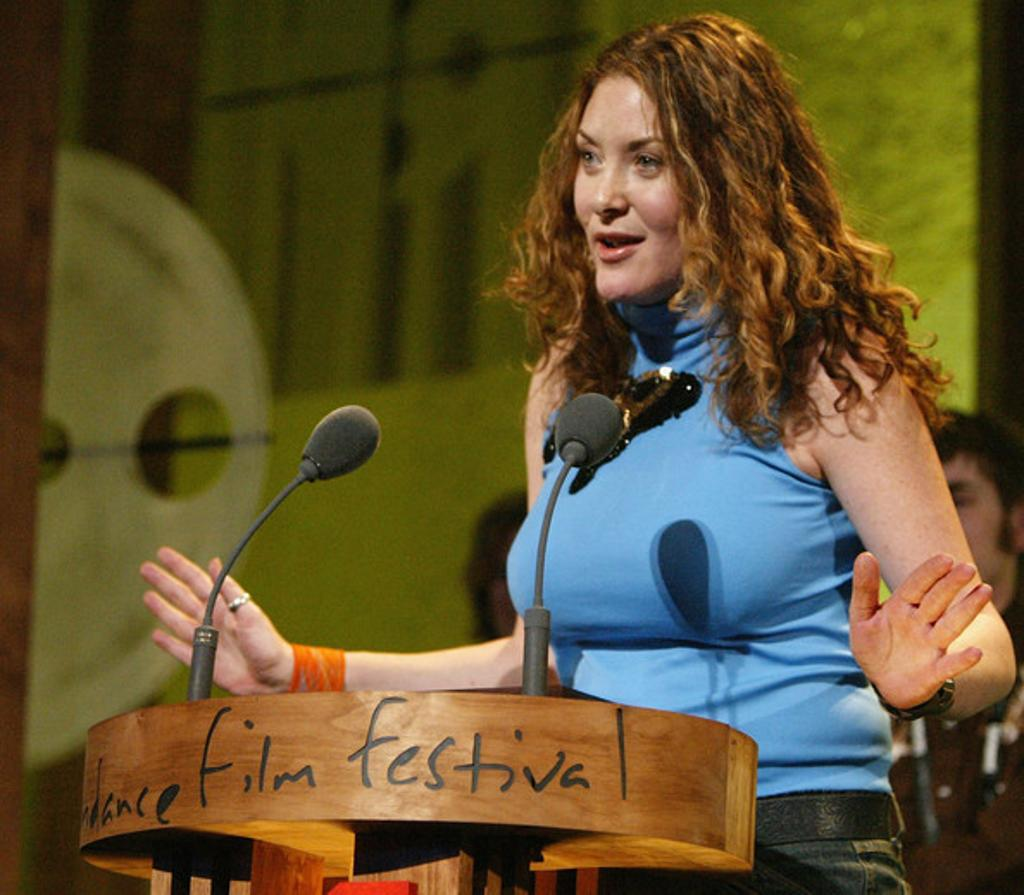face: (570, 70, 726, 294)
